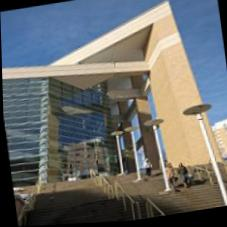Bench: (20, 150, 227, 226)
